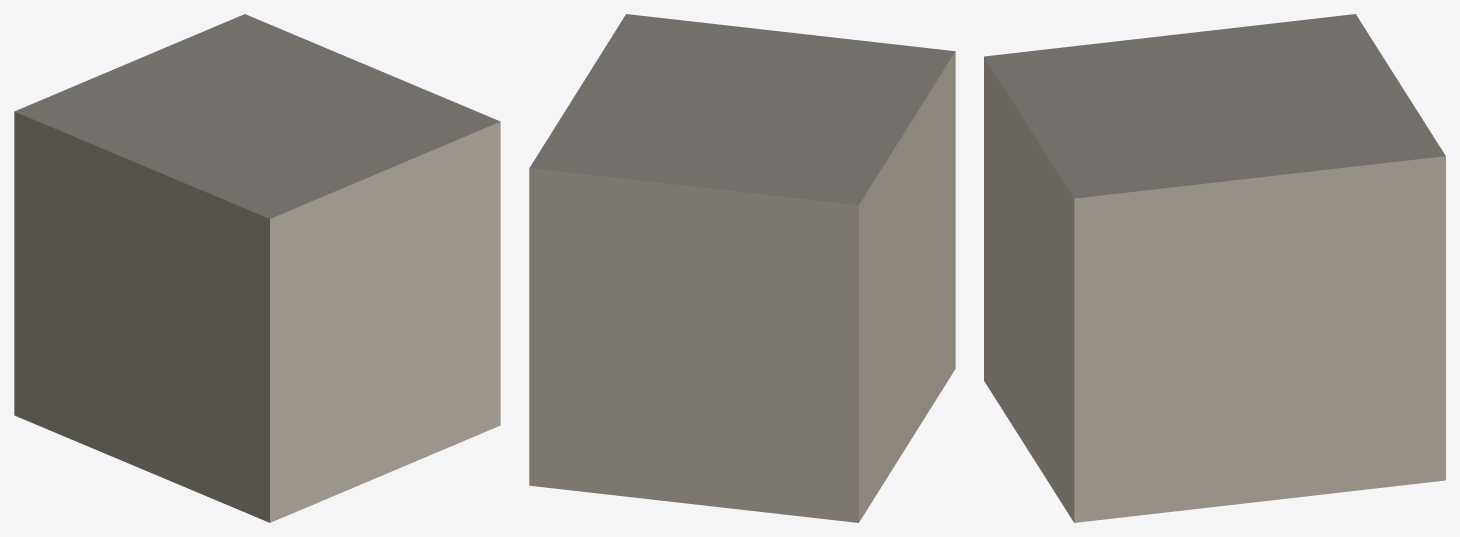
The picture shows the model from 3 angles, left to right: view 1: azimuth 30°, elevation 25°; view 2: azimuth 150°, elevation 25°; view 3: azimuth 270°, elevation 25°; orthographic projection. The views are drawn at different scales.
Parts seen in each view (by area): view 1: HP-w414733175; view 2: HP-w414733175; view 3: HP-w414733175.
Part boxes in pixels (x1,y1,x2,y2): HP-w414733175: (14, 14, 500, 522); HP-w414733175: (529, 14, 955, 522); HP-w414733175: (984, 14, 1445, 522).
Bounding box in the file's own units: 21.97 × 18 × 23.23.
